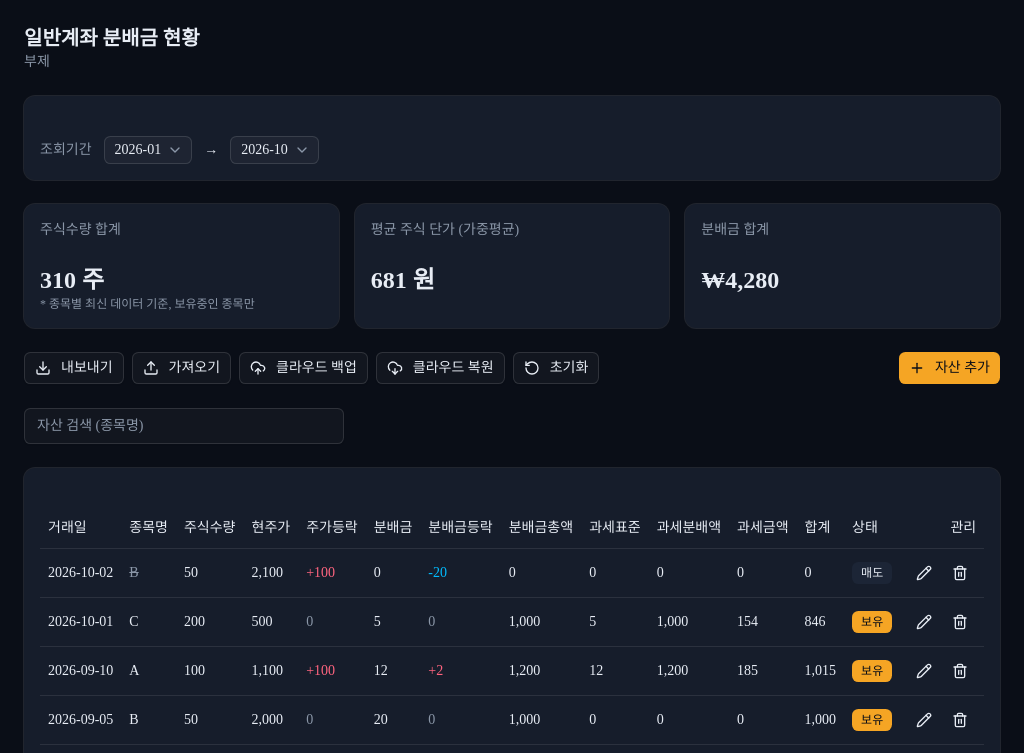
Scenario: DistributionAccountView — 화면 출력 고정 › 종목 검색: 대소문자 무시, 필터 후 표/요약 갱신 및 더보기 초기화
Type "a" into the field with placeholder "자산 검색 (종목명)" at point(184, 426), box x1=24 y1=408 x2=344 y2=444
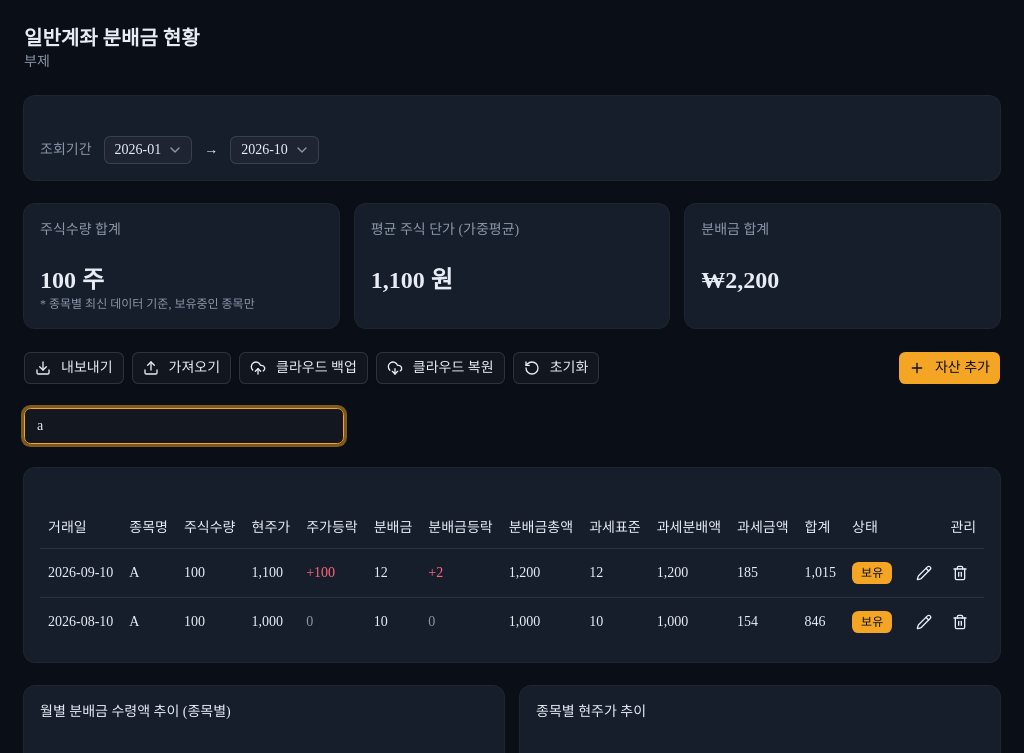
Expected: the text "100 주" is shown, x1=40 y1=267 x2=104 y2=293
Expected: the text "₩2,200" is shown, x1=701 y1=267 x2=779 y2=293
